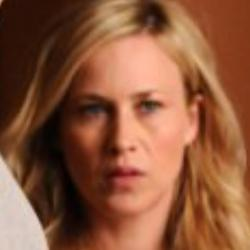face: (8, 1, 249, 212)
